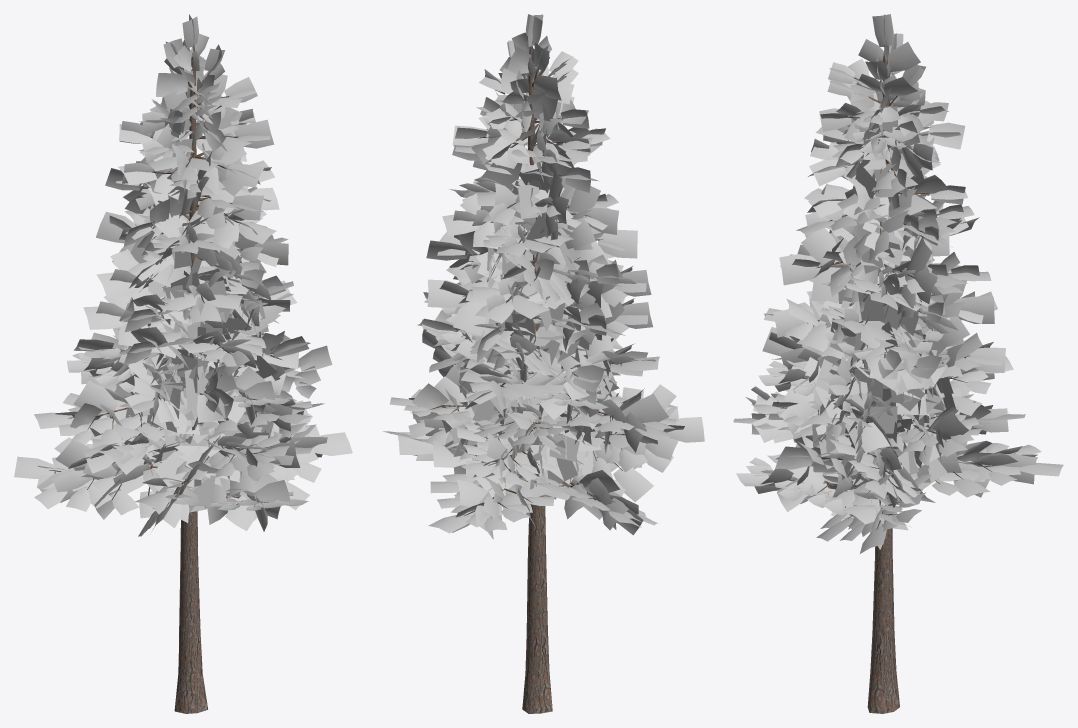
The model's file is D_Tree_003.fbx.
3 views of the same model, side by side, from view 1: azimuth 30°, elevation 25°; view 2: azimuth 150°, elevation 25°; view 3: azimuth 270°, elevation 25° (orthographic).
Visible parts, largest first — view 1: D_Tree_003; view 2: D_Tree_003; view 3: D_Tree_003.
Boxes of the visible parts, left/top/right/bottom form: D_Tree_003: left=14, top=14, right=352, bottom=713; D_Tree_003: left=382, top=14, right=704, bottom=713; D_Tree_003: left=733, top=14, right=1063, bottom=713.
Size of the model in its own units: 7 by 15.44 by 6.66.
